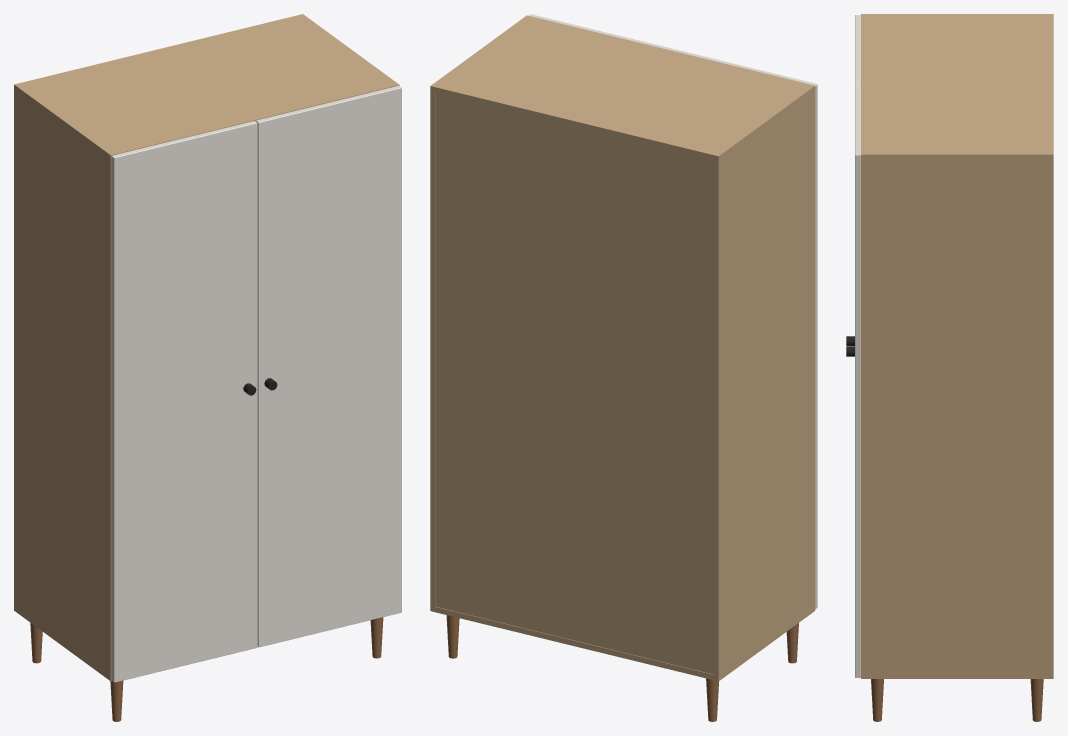
File: 17_szafa_nozki_100.glb
3 renders of one model, left to right at view 1: azimuth 30°, elevation 25°; view 2: azimuth 150°, elevation 25°; view 3: azimuth 270°, elevation 25°, orthographic.
Visible parts, largest first — view 1: Korpus, Front_drzwi_1, Front_drzwi_2, Nogi; view 2: Korpus, Front_drzwi_1, Nogi; view 3: Korpus, Front_drzwi_2, Nogi, Front_drzwi_1.
Part boxes in pixels (<box>): Korpus: <box>14,14,399,681</box>; Front_drzwi_1: <box>111,121,257,682</box>; Front_drzwi_2: <box>256,85,401,647</box>; Nogi: <box>30,617,383,721</box>; Korpus: <box>430,15,815,681</box>; Front_drzwi_1: <box>672,49,817,608</box>; Nogi: <box>446,615,798,721</box>; Korpus: <box>861,14,1053,678</box>; Front_drzwi_2: <box>855,85,860,677</box>; Nogi: <box>871,679,1043,721</box>; Front_drzwi_1: <box>855,15,860,85</box>.
Size of the model in its own units: 1 by 1.9 by 0.624.
